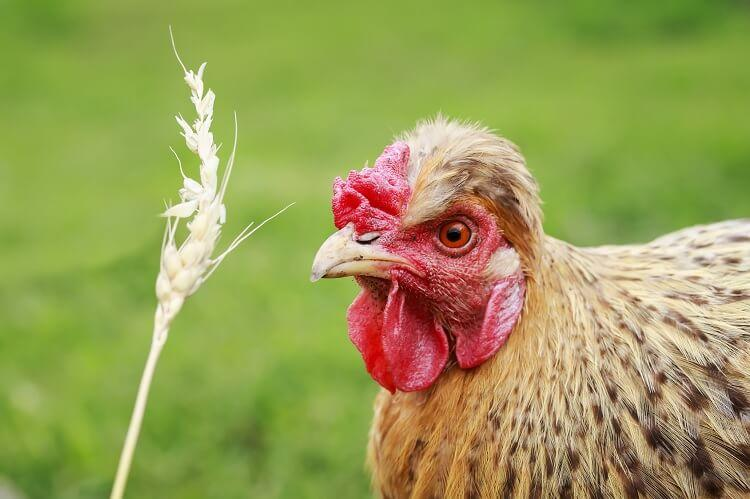AbNormal: (333, 135, 414, 228)
